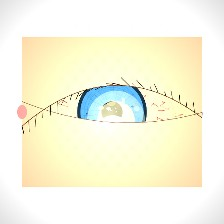corneal_ulcer: (85, 95, 147, 145)
